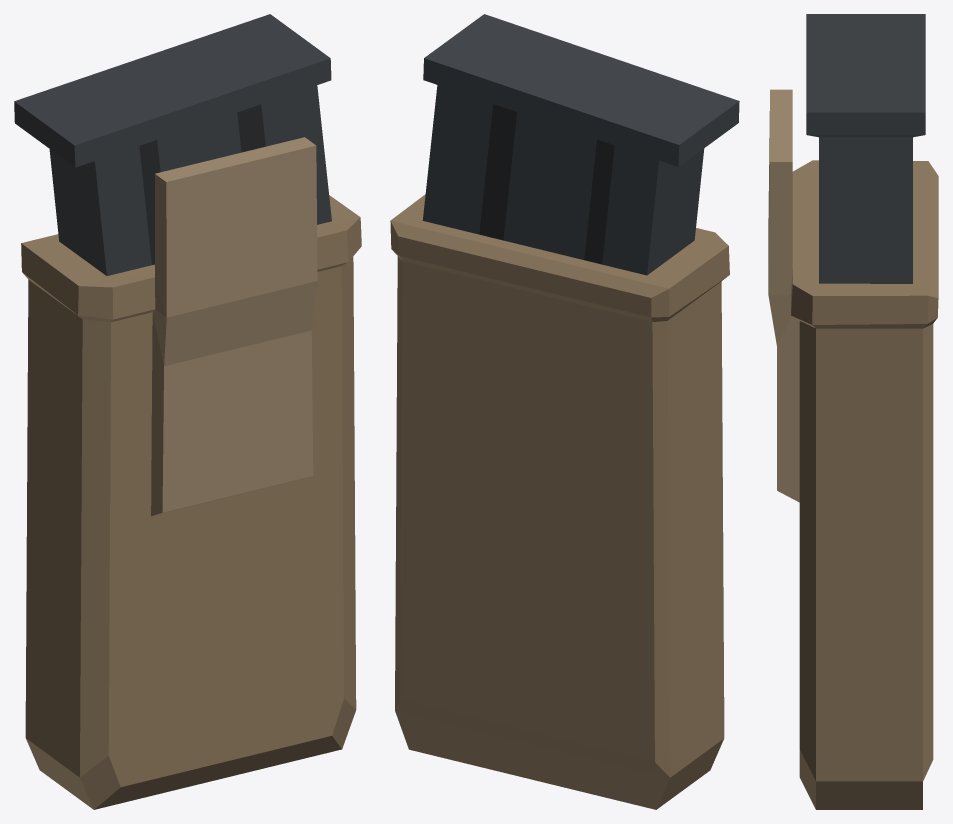
File: SM_Item_Pouch_04.fbx
The picture shows the model from 3 angles, left to right: view 1: azimuth 30°, elevation 25°; view 2: azimuth 150°, elevation 25°; view 3: azimuth 270°, elevation 25°; orthographic projection.
Visible parts, largest first — view 1: SM_Item_Pouch_04; view 2: SM_Item_Pouch_04; view 3: SM_Item_Pouch_04.
Boxes of the visible parts, x1,y1,x2,y2 form: SM_Item_Pouch_04: [14, 14, 361, 809]; SM_Item_Pouch_04: [390, 14, 739, 809]; SM_Item_Pouch_04: [768, 14, 938, 809].
Size of the model in its own units: 9.17 by 21.09 by 4.72.
